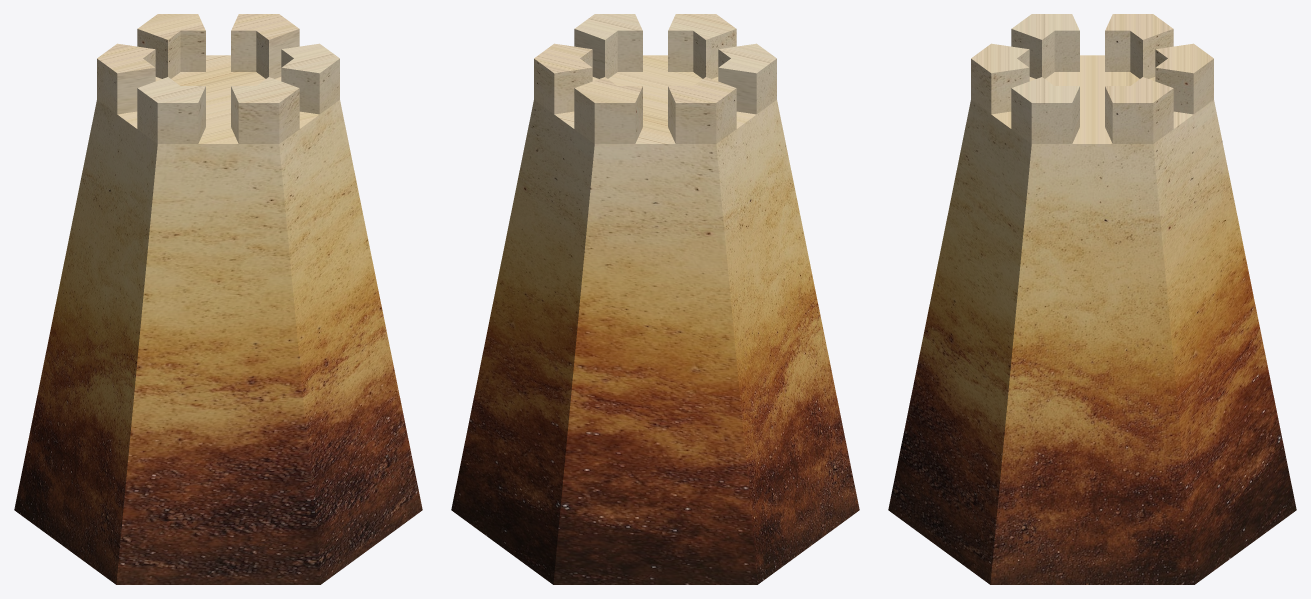
Rendered from tower.fbx.
The picture shows the model from 3 angles, left to right: view 1: azimuth 30°, elevation 25°; view 2: azimuth 150°, elevation 25°; view 3: azimuth 270°, elevation 25°; orthographic projection.
Visible parts, largest first — view 1: Cylinder; view 2: Cylinder; view 3: Cylinder.
Part boxes in pixels (<box>): Cylinder: <box>14,14,422,584</box>; Cylinder: <box>451,14,859,584</box>; Cylinder: <box>888,14,1296,584</box>.
Bounding box in the file's own units: 595 × 839 × 687.
